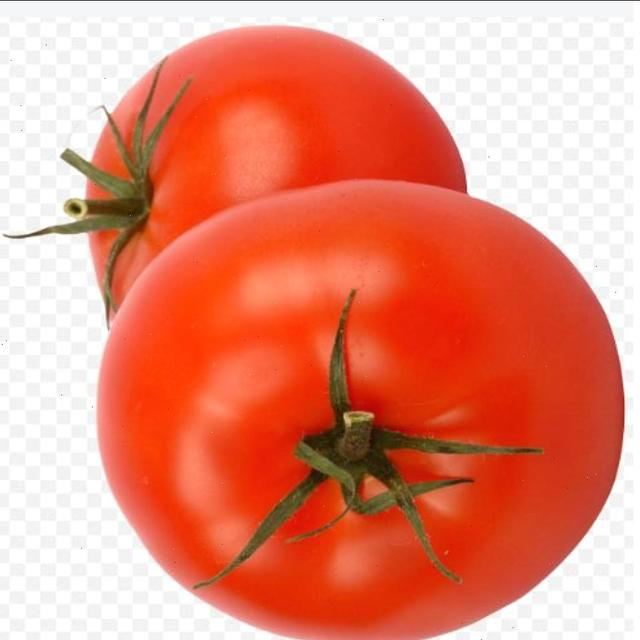Healthy Fruit: (188, 114, 353, 291)
